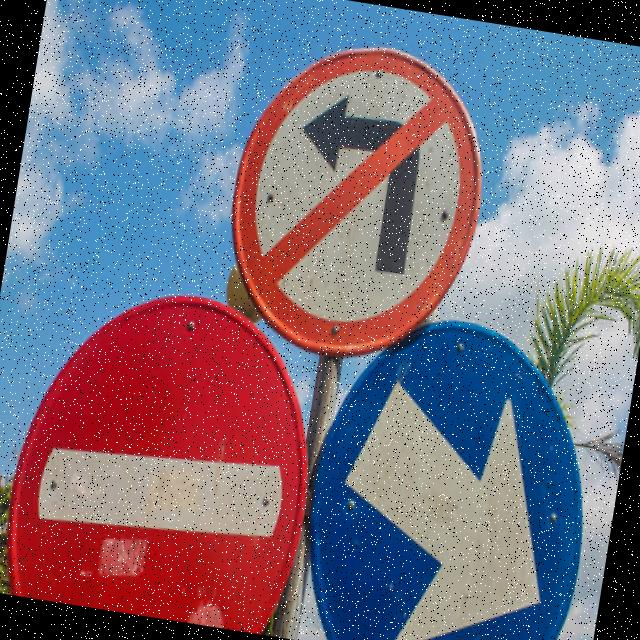do_not_turn_right: (208, 24, 508, 372)
